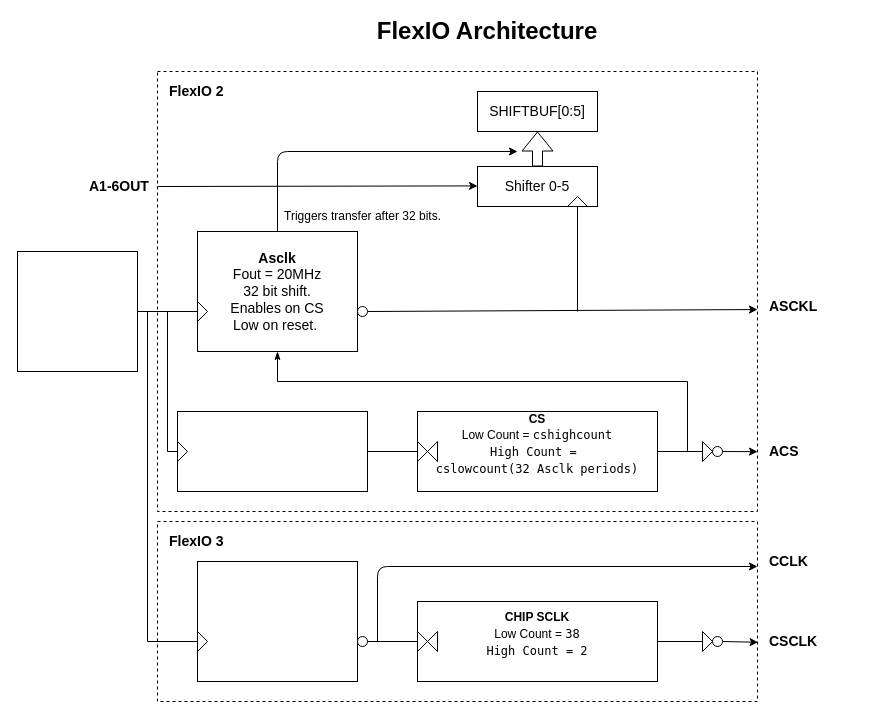
This 885x719 diagram has some shape labels left out. The shapes that lost their labels are listed below. From the top down, each one's centre as x and y in pixels, then its label:
point (77, 311): FLEXIO2/3 Core Clock 240MHz
point (272, 451): CS clock divider Fout = Fin/( csclockdiv*2)
point (277, 621): CHIP CLK Fout = ACS freq * 2
